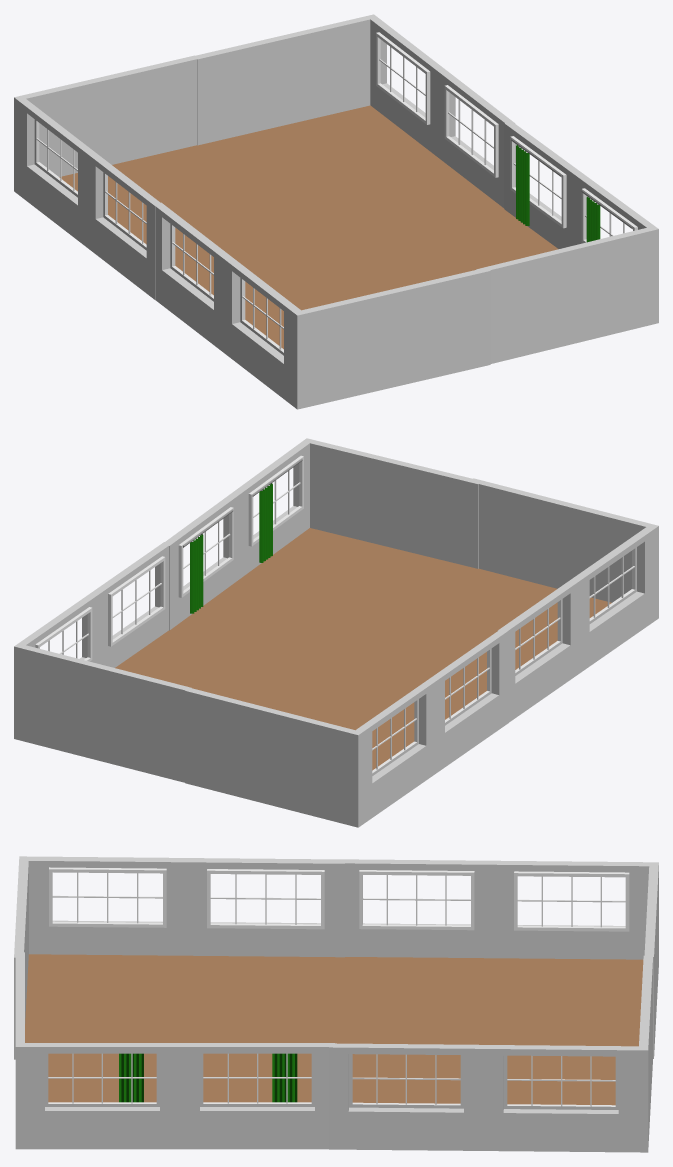
Rendered from office.glb.
3 views of the same model, one above another, from view 1: azimuth 30°, elevation 25°; view 2: azimuth 150°, elevation 25°; view 3: azimuth 270°, elevation 25° (orthographic). The views are drawn at different scales.
Visible parts, largest first — view 1: Object_4, Object_9, Object_6; view 2: Object_4, Object_6, Object_9; view 3: Object_4, Object_9, Object_6.
Boxes of the visible parts, x1,y1,x2,y2 form: Object_4: [14, 14, 658, 409]; Object_9: [516, 145, 529, 225]; Object_6: [586, 196, 600, 242]; Object_4: [14, 438, 658, 827]; Object_6: [259, 483, 272, 562]; Object_9: [190, 534, 203, 613]; Object_4: [14, 856, 658, 1152]; Object_9: [272, 1053, 297, 1102]; Object_6: [119, 1053, 143, 1102].
Size of the model in its own units: 14.42 by 3.54 by 20.26.
Materials: 5 (5 with a texture image).
